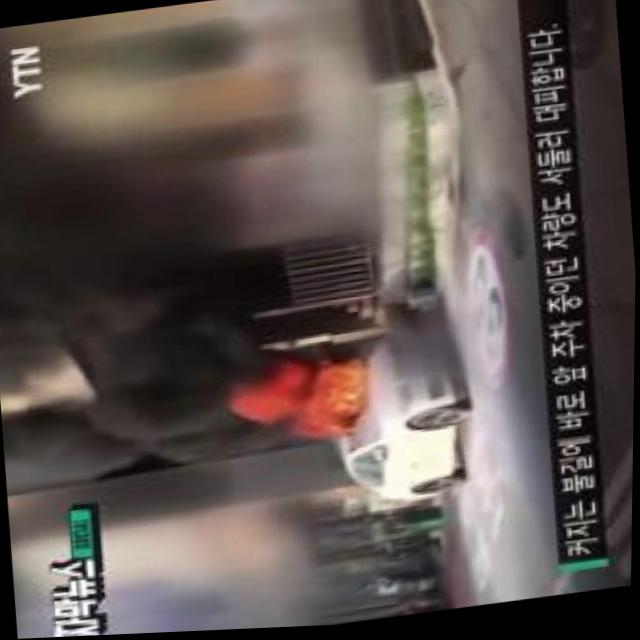Fire: (249, 355, 371, 438)
